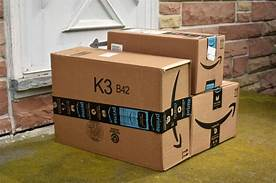package: (50, 44, 195, 175), (107, 28, 226, 97), (190, 80, 241, 162)
